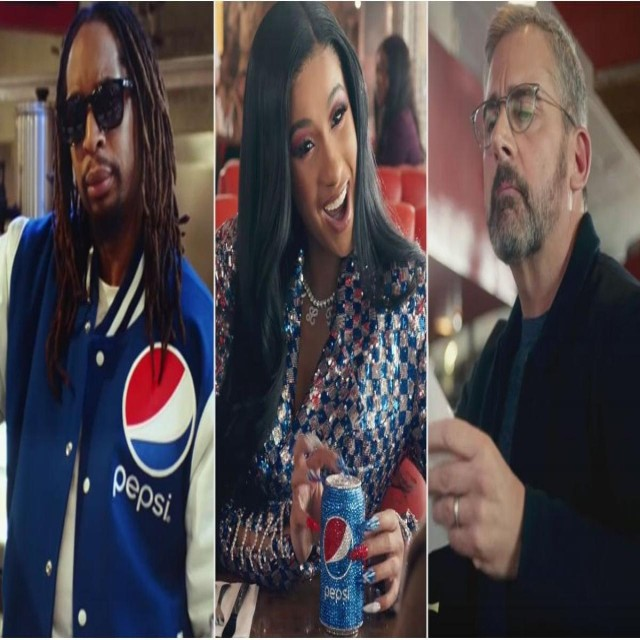pepsi: (120, 338, 198, 482), (322, 514, 357, 580)
